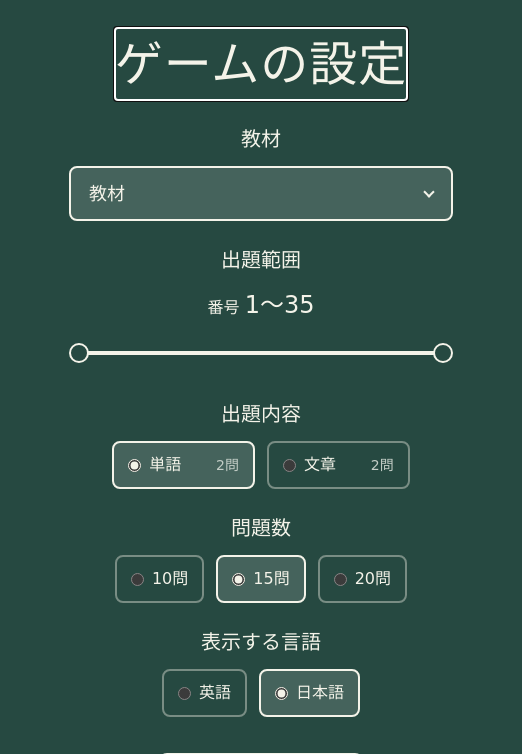
it: clears selection for an empty range and restores word selection when the range expands
This screenshot has width=522, height=754.
Set the slider named "開始番号" to "3": (445, 353) [69,331,453,375]
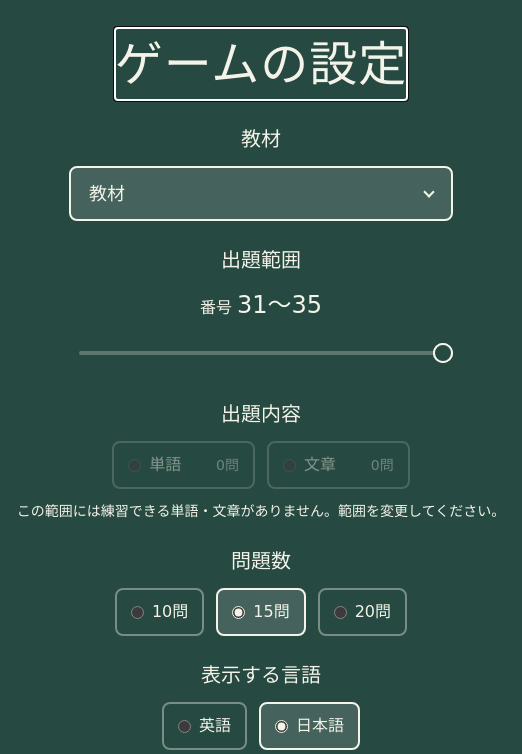
Check: the radio button labelled "単語" is disabled, box [128,458,141,472]
Check: the radio button labelled "単語" is not checked, box [128,458,141,472]
Check: the radio button labelled "文章" is disabled, box [283,458,296,472]
Set the slider named "開始番号" to "0": (77, 353) [69,331,453,375]
(page scrolled)
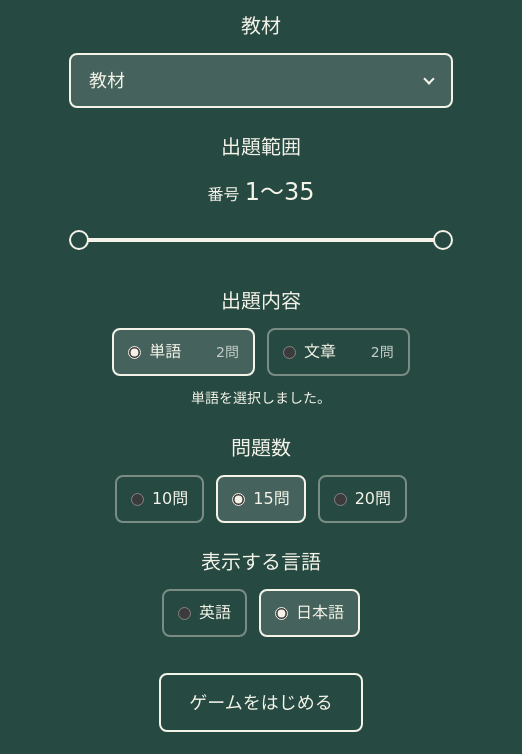
Check: the radio button labelled "単語" is checked, box [128,346,141,358]
Check: the button "ゲームをはじめる" is enabled, box [159,673,363,732]
